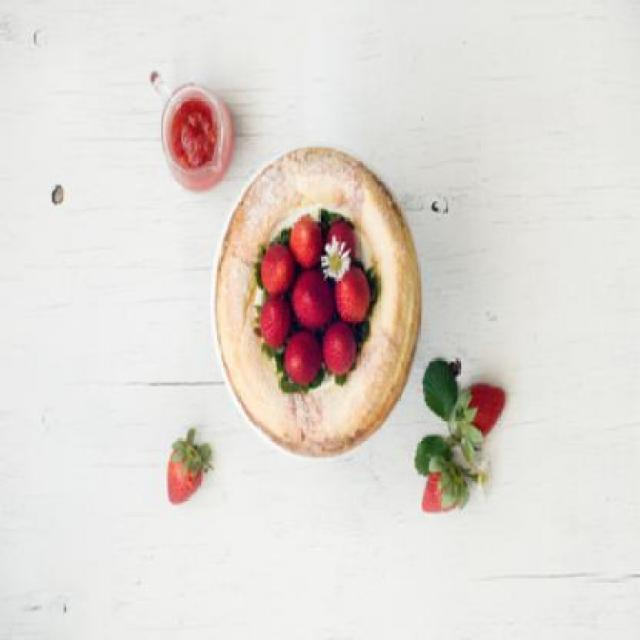Strawberry: (444, 382, 508, 466), (428, 453, 482, 521), (336, 268, 381, 344), (249, 287, 294, 358), (320, 209, 358, 282), (293, 265, 332, 330), (253, 234, 290, 298), (282, 329, 320, 389), (284, 216, 320, 278), (171, 434, 204, 500), (326, 320, 359, 386)
